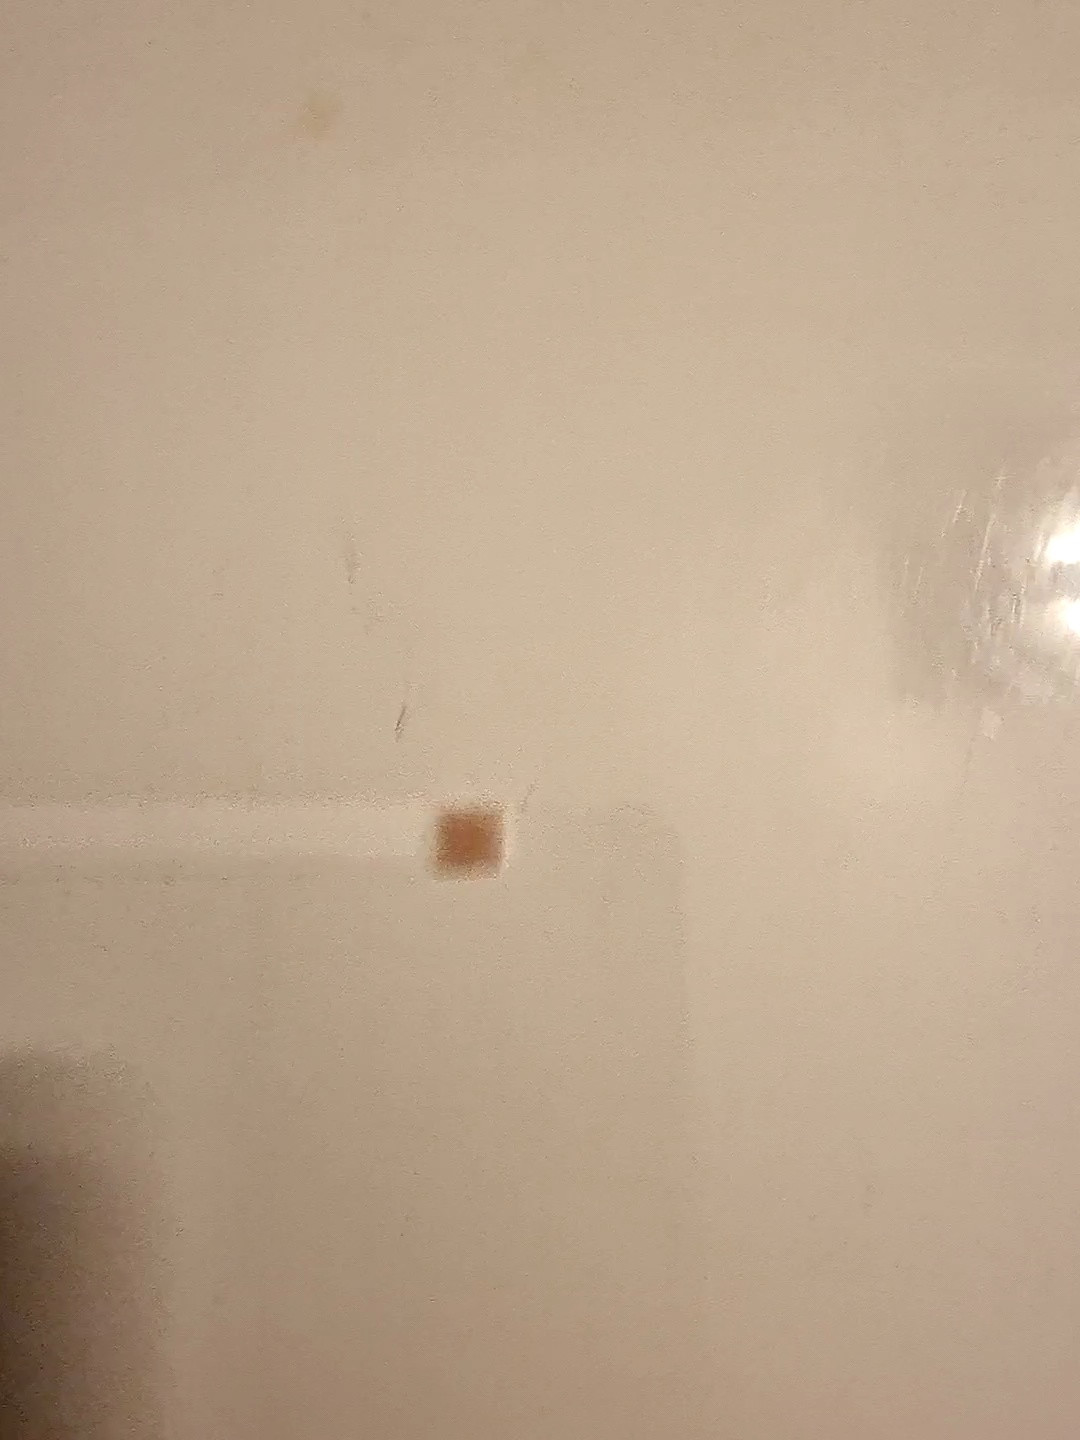keto-tip: (423, 789, 521, 889)
